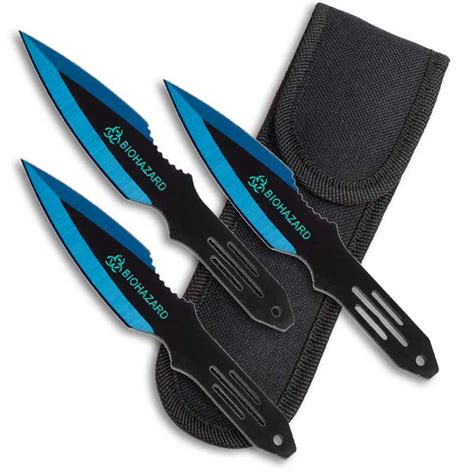knife: (159, 79, 442, 381), (18, 27, 296, 330), (21, 158, 299, 461)
